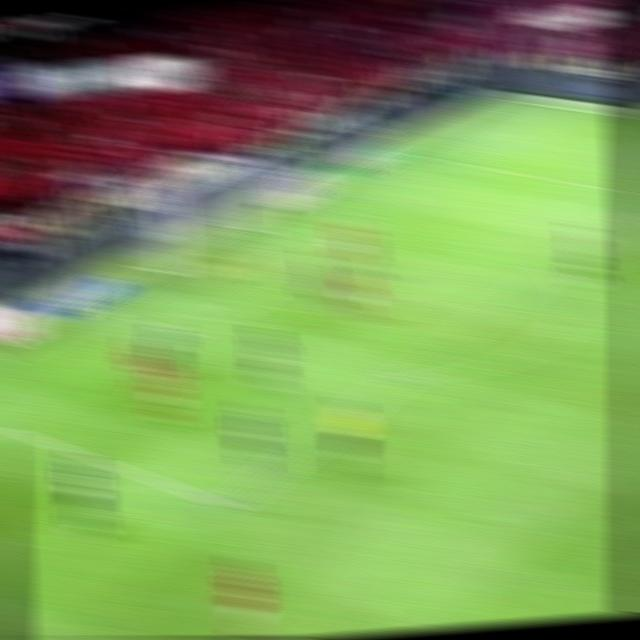bigarea_bottom_inner: (209, 491, 245, 520)
bigarea_top_outter: (399, 147, 424, 159)
bottom_arc_area_intersection: (387, 363, 421, 389)
corner: (497, 93, 525, 104)
smallarea_bottom_inner: (171, 323, 203, 345)
smallarea_bottom_outter: (91, 300, 118, 316)
smallarea_top_inner: (372, 211, 401, 228)
top_arc_area_intersection: (537, 260, 567, 280)
